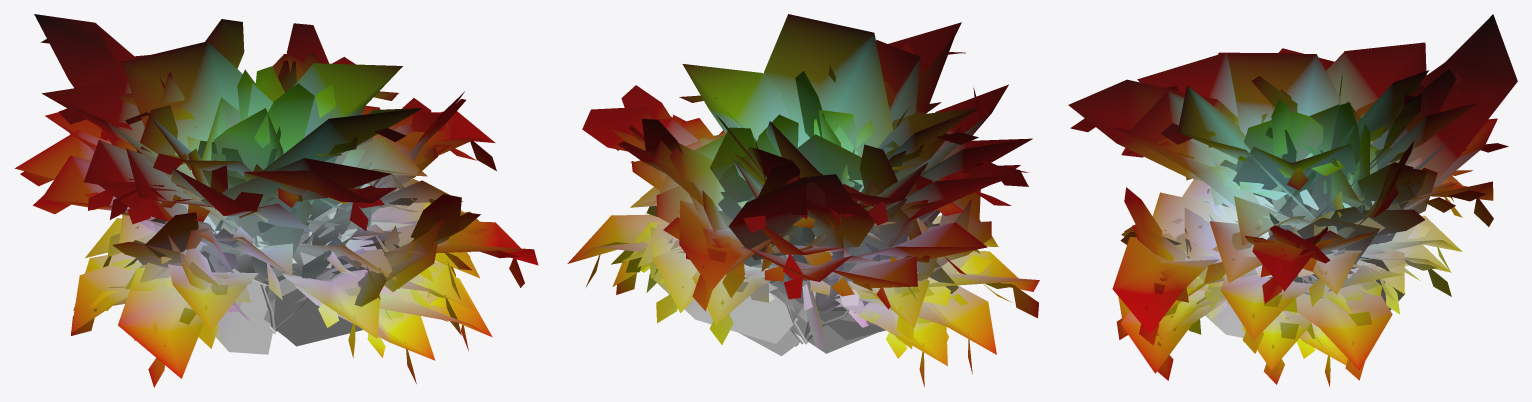
Rendered from arden_forest_bush_flower_01.fbx.
The picture shows the model from 3 angles, left to right: view 1: azimuth 30°, elevation 25°; view 2: azimuth 150°, elevation 25°; view 3: azimuth 270°, elevation 25°; orthographic projection. The views are drawn at different scales.
Parts seen in each view (by area): view 1: arden_forest_bush_flower_01; view 2: arden_forest_bush_flower_01; view 3: arden_forest_bush_flower_01.
Part boxes in pixels (<box>): arden_forest_bush_flower_01: <box>14,14,538,387</box>; arden_forest_bush_flower_01: <box>567,14,1039,387</box>; arden_forest_bush_flower_01: <box>1068,14,1517,386</box>.
Bounding box in the file's own units: 2.47 × 2.49 × 1.62.
